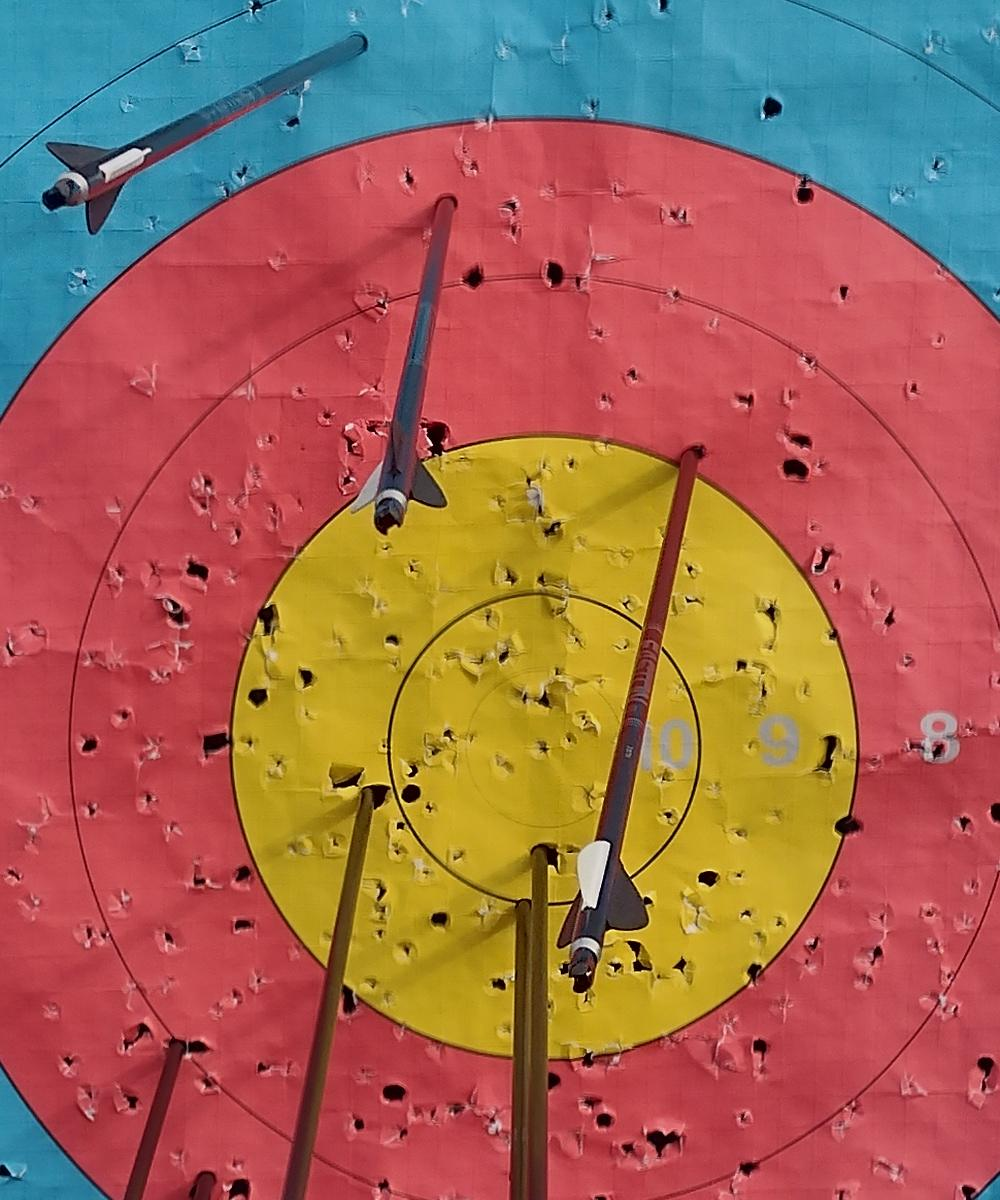10-Ring: (383, 591, 707, 911)
8-Ring: (69, 280, 1000, 1200)
9-Ring: (233, 438, 858, 1061)
Arrow: (548, 448, 753, 1004), (346, 197, 528, 550), (283, 788, 376, 1200), (527, 848, 547, 1200), (510, 899, 533, 1200)
